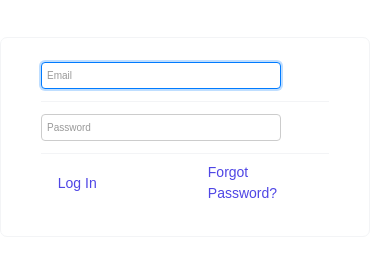
LoginForm › shows validation error for empty password
Trigger validation by submitting the form
What coordinates should you click on to do the following:
click the button "Log In"
I would click on:
 (110, 183)
Its box is [41,154,179,212].
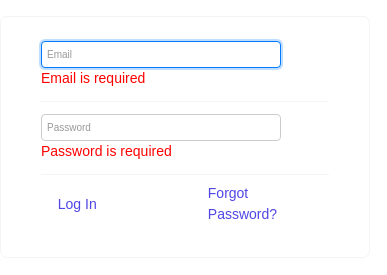
Expected: the text "Password is required" is shown, [41,143,172,159]
